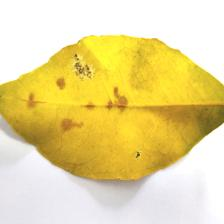canker: (20, 52, 132, 140)
